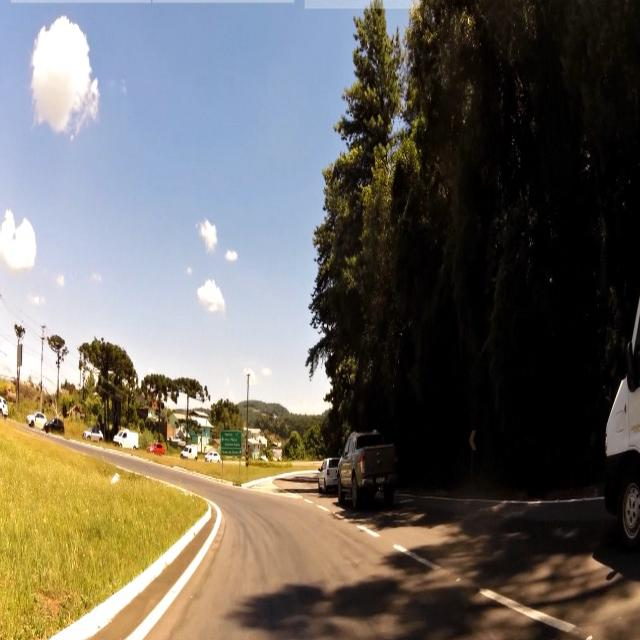Del: (468, 428, 478, 450)
